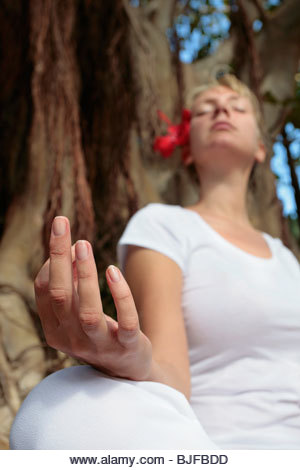Hibiscus: (150, 105, 191, 161)
